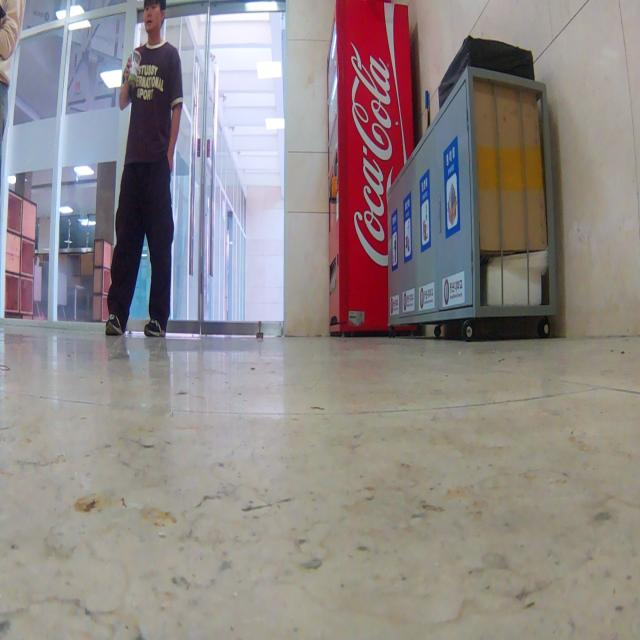target: (256, 321, 264, 341)
